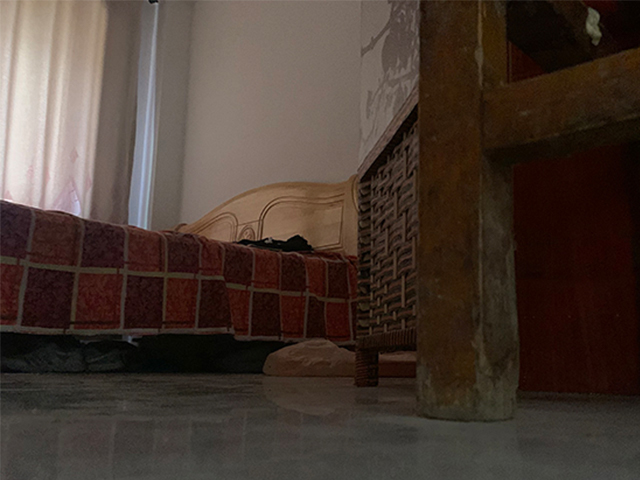bed: (1, 173, 357, 365)
curtain: (1, 2, 137, 224)
